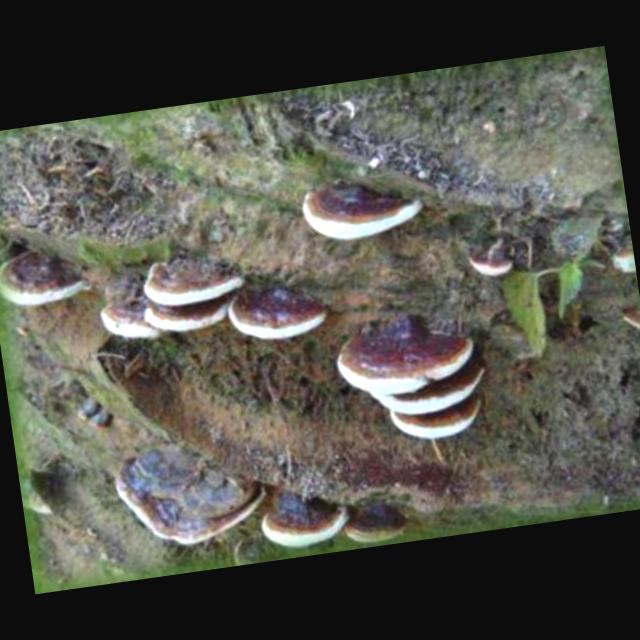ganoderma: (110, 428, 275, 558), (333, 303, 482, 400), (296, 175, 420, 254), (366, 363, 494, 425), (225, 279, 328, 351), (142, 248, 249, 315), (1, 243, 92, 313), (257, 491, 356, 555), (388, 397, 488, 447), (143, 296, 241, 342), (100, 295, 166, 353), (340, 499, 413, 550), (467, 241, 518, 283)
